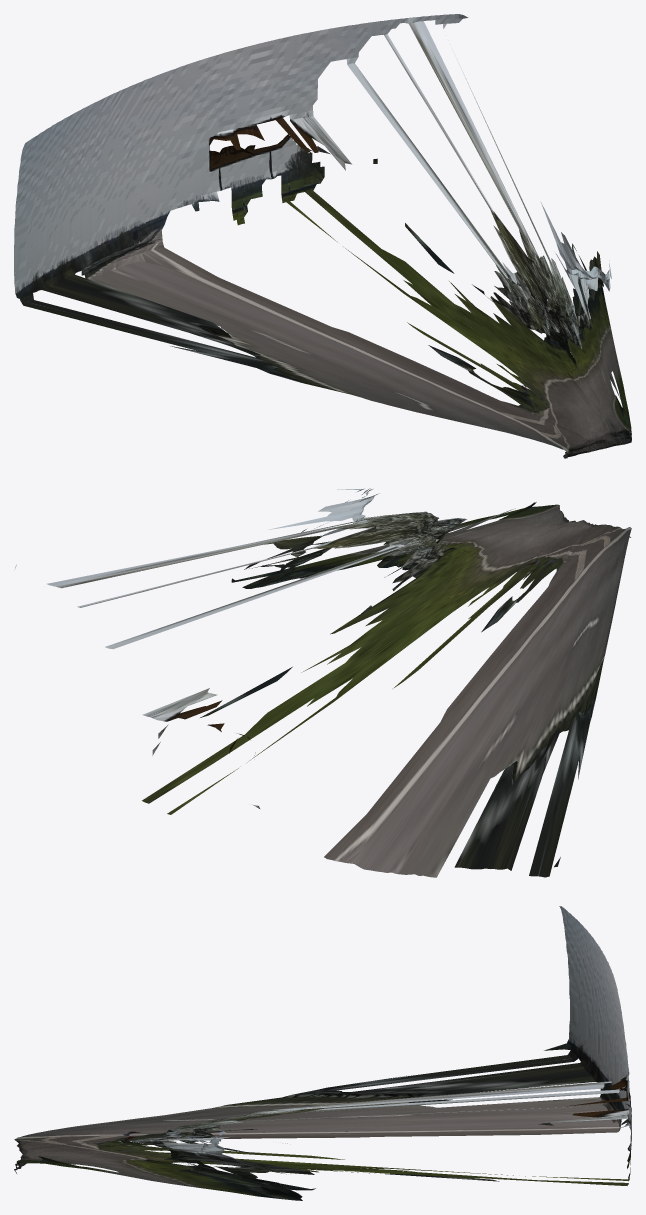
3 views of the same model, one above another, from view 1: azimuth 30°, elevation 25°; view 2: azimuth 150°, elevation 25°; view 3: azimuth 270°, elevation 25° (orthographic). The views are drawn at different scales.
Parts seen in each view (by area): view 1: defaultobject; view 2: defaultobject; view 3: defaultobject.
Part boxes in pixels (x1,y1,x2,y2): defaultobject: (14, 14, 631, 458); defaultobject: (15, 488, 631, 877); defaultobject: (14, 906, 631, 1200).
Bounding box in the file's own units: 34.51 × 13.14 × 44.43.
Materials: 1 (1 with a texture image).
